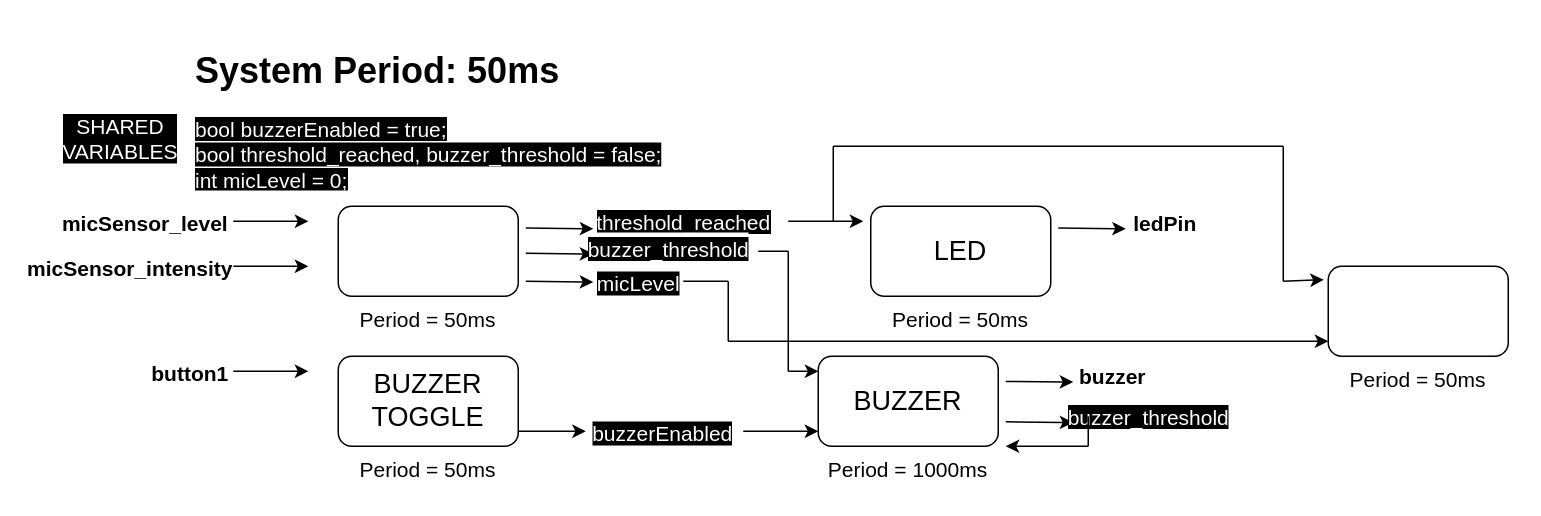
This 1541x516 diagram has some shape labels left out. The box of each missing label's shape, as (x1, y1, x2, y2) in pixels:
MIC: (337, 205, 518, 296)
NOKIA: (1327, 265, 1508, 356)
